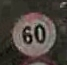limite 60: (10, 11, 57, 57)
